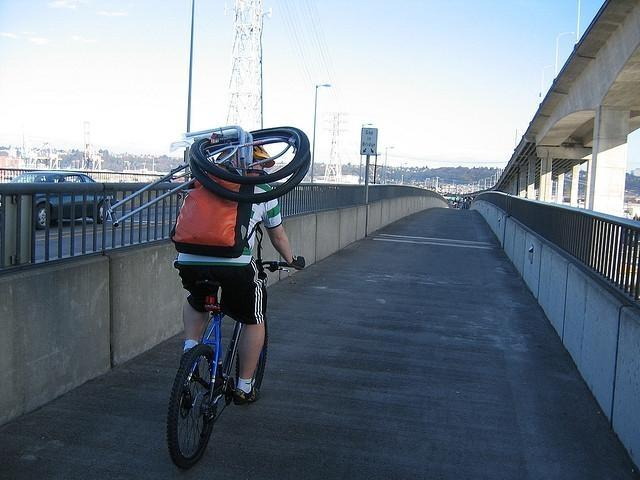bicycle: (166, 248, 308, 466)
car: (10, 172, 120, 228)
